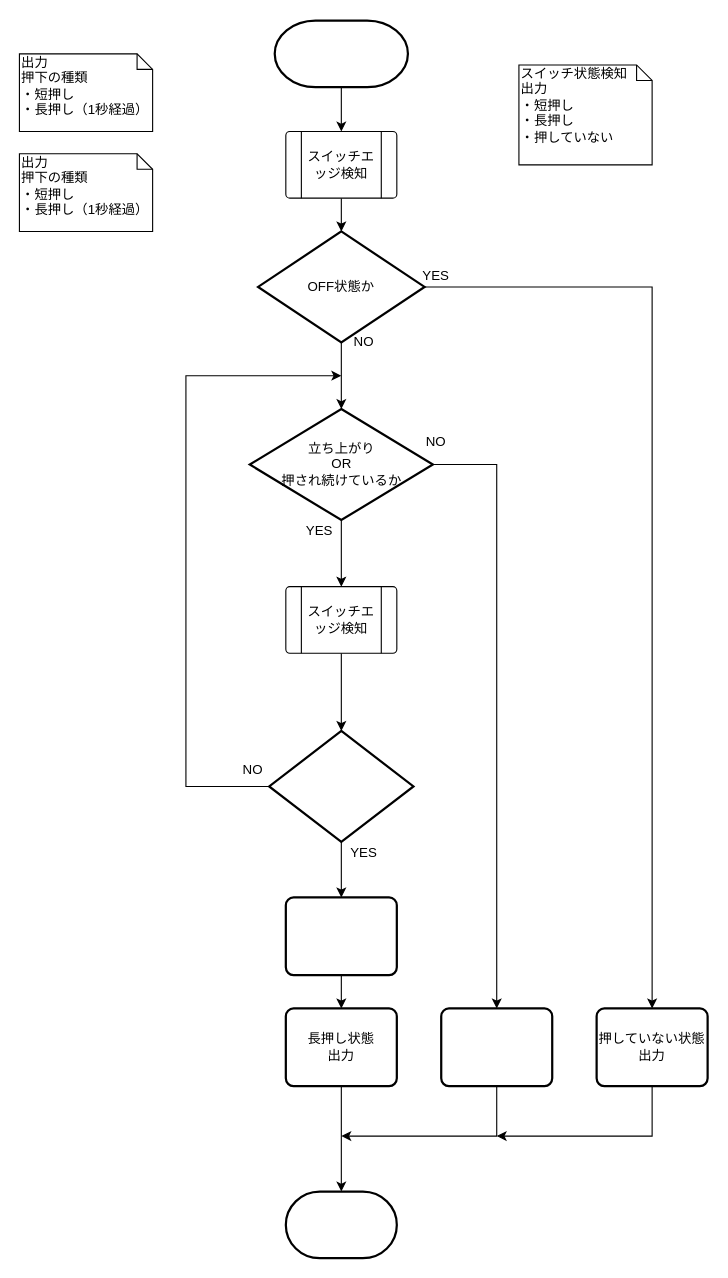
Image size: 728x1278. Some labels were removed from this diagram. The shapes that lost their labels are listed below. From the top down, each one's centre as x and y in pixels, then its label:
At (x=340, y=53): "スイッチ状態検知 UpdateSWSate".
At (x=341, y=785): "1秒 経過したか".
At (x=340, y=936): "長押しフラグ ON".
At (x=496, y=1047): "短押し状態 出力".
At (x=340, y=1224): "END".
